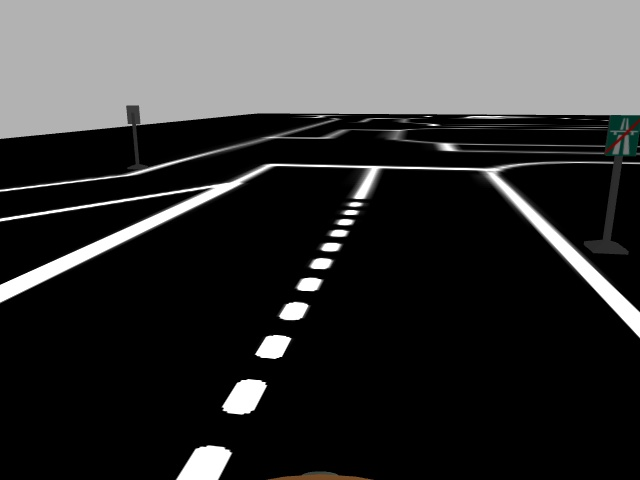leave_highway: (601, 112, 640, 157)
